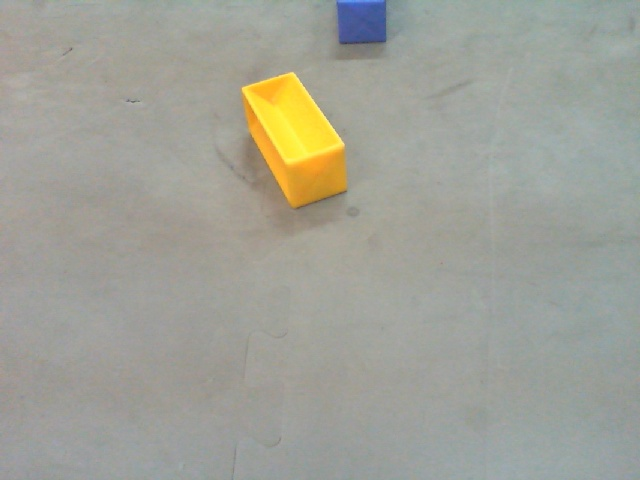BlueSample: (334, 1, 388, 45)
YellowSample: (240, 70, 351, 212)
